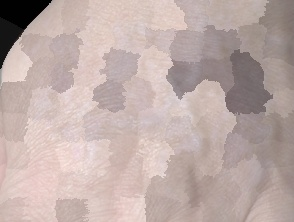vitiligo: (108, 0, 294, 191)
